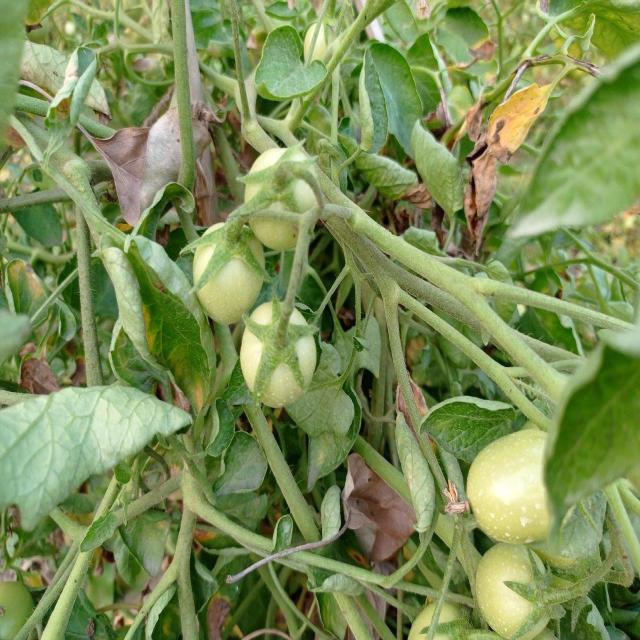Unripe: (238, 301, 318, 407), (194, 217, 266, 328), (246, 148, 322, 252)
